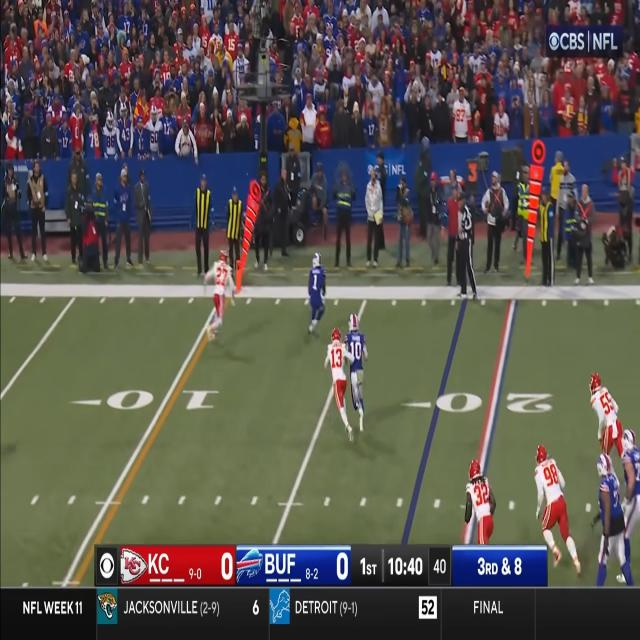Player: (595, 454, 624, 580), (536, 443, 569, 551), (590, 374, 622, 454), (623, 424, 640, 568), (466, 461, 494, 546), (348, 308, 367, 426), (330, 328, 349, 431), (209, 248, 229, 340), (308, 252, 326, 334)
Referee: (458, 195, 477, 299)
